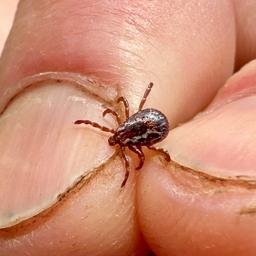Dermacentor variabilis: (73, 80, 172, 188)
